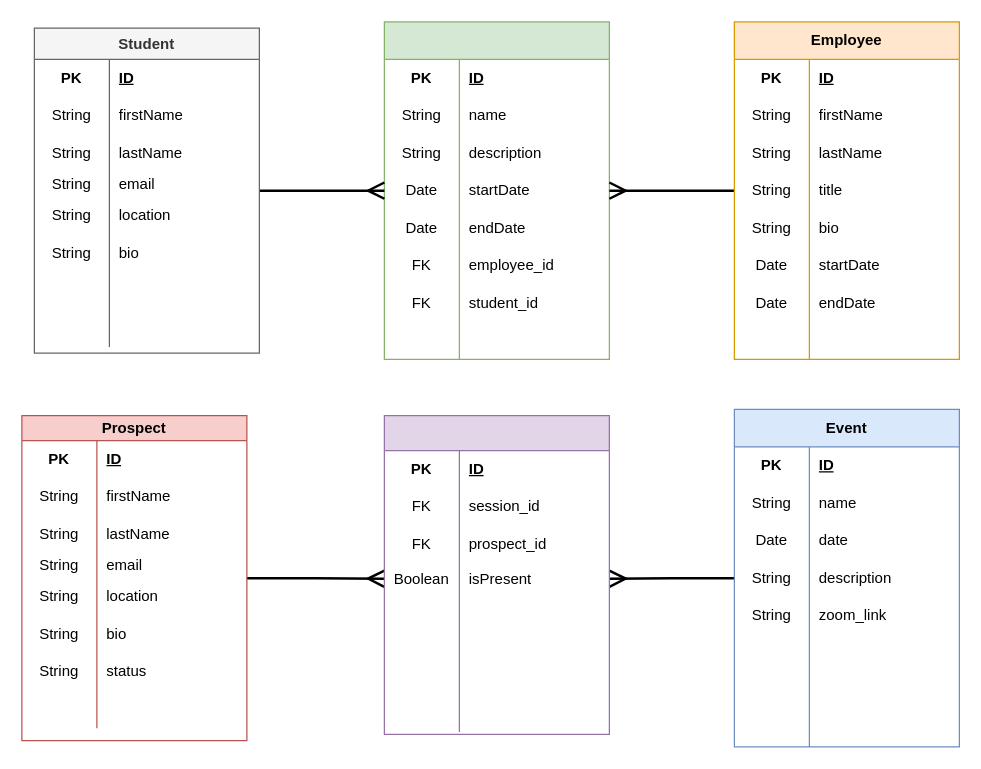
This 981x769 diagram has some shape labels left out. Here are the shapes that lost their labels. From the top down, the box of each, then its label:
(383, 21, 609, 359): Course
(383, 414, 609, 734): liveSession
